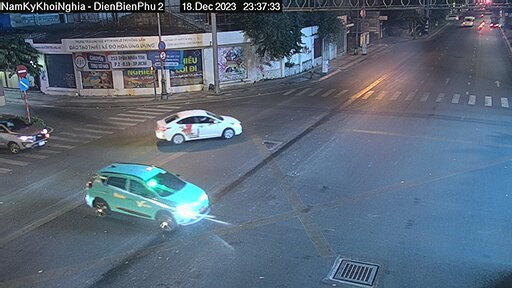car: (60, 157, 216, 233), (143, 102, 250, 138), (8, 100, 51, 157)
